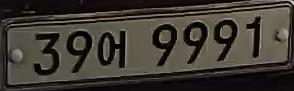1: (242, 14, 271, 60)
3: (30, 28, 64, 78)
9: (62, 28, 95, 77), (180, 18, 211, 66), (211, 16, 241, 62), (150, 22, 179, 68)
어: (95, 24, 129, 72)
